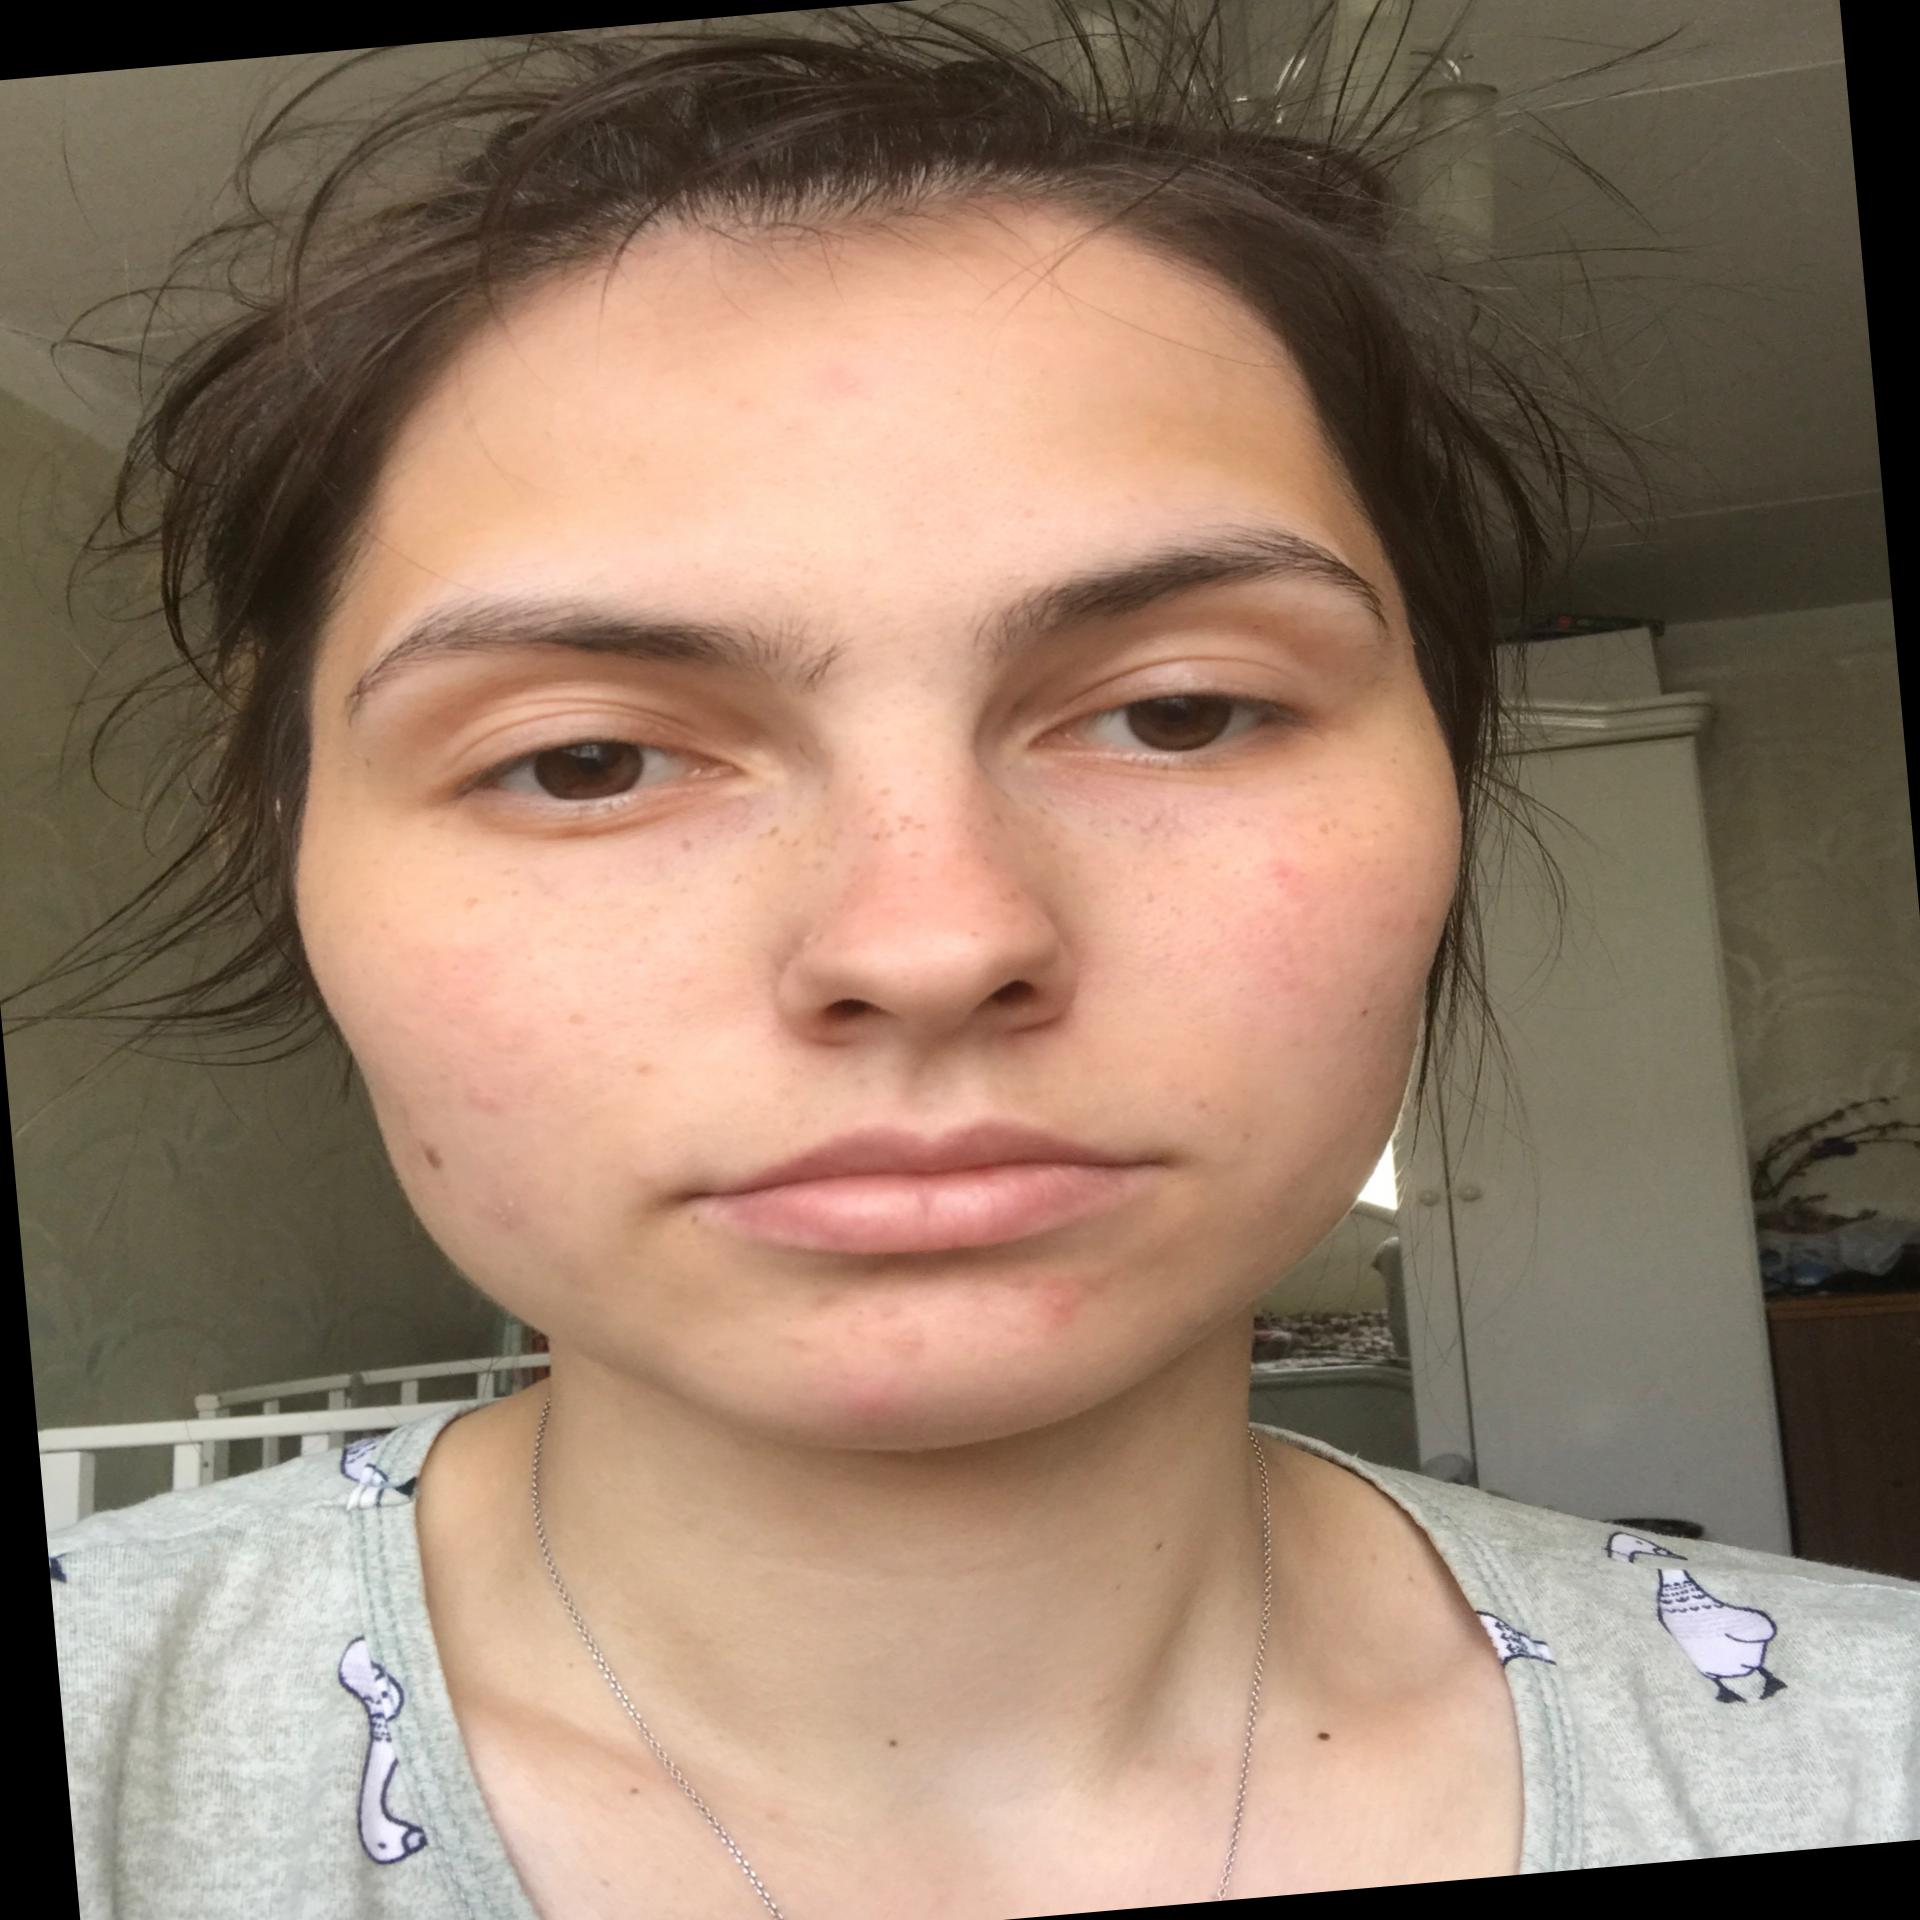Acne: (1255, 930, 1312, 1000), (835, 1377, 904, 1426), (809, 353, 872, 406), (1029, 1275, 1087, 1331), (1261, 851, 1303, 888), (1275, 879, 1315, 907)
